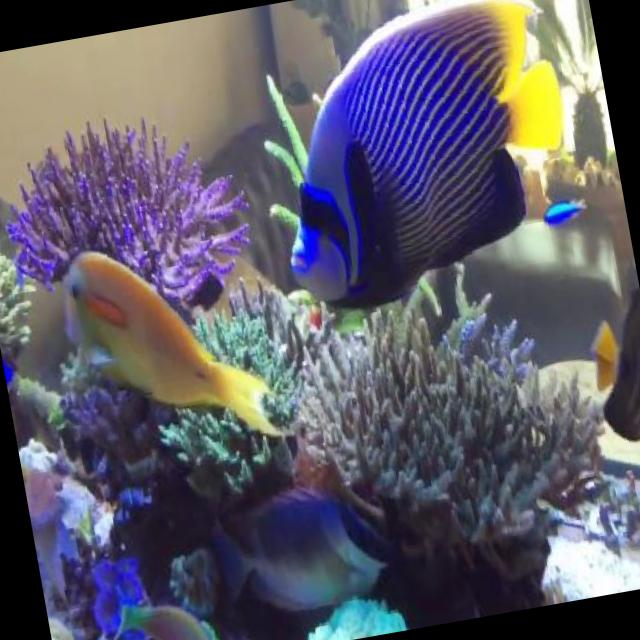AngelFish: (247, 0, 581, 309)
